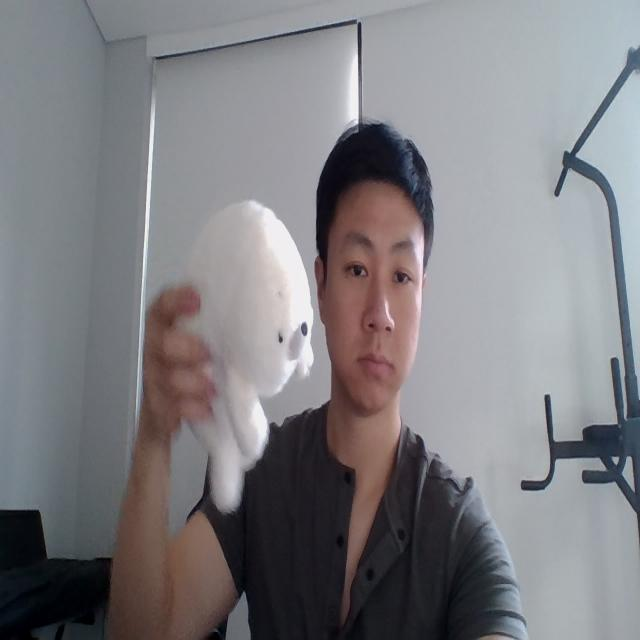seal_bb: (167, 199, 315, 513)
